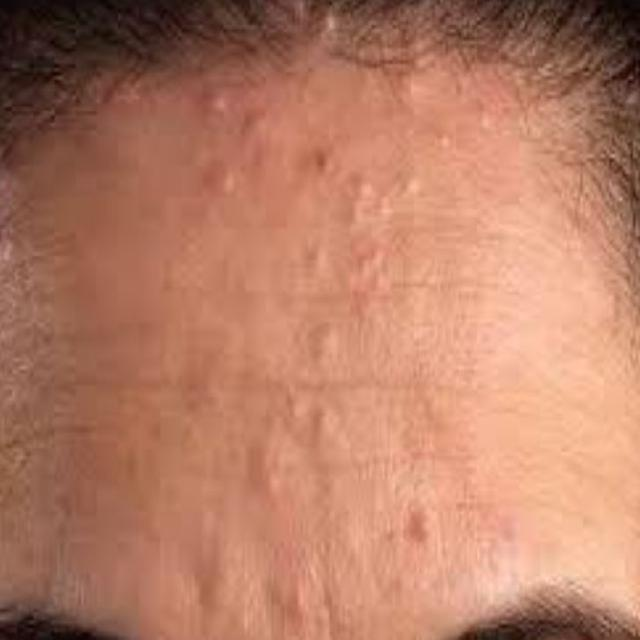fungal: (150, 85, 455, 639)
